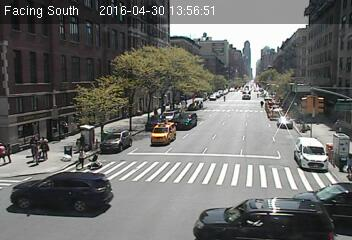neg: (214, 165, 237, 195), (157, 168, 176, 193), (140, 33, 157, 56), (258, 197, 274, 218), (94, 49, 110, 70), (179, 122, 193, 141), (240, 217, 254, 235), (273, 155, 286, 172), (119, 178, 131, 194), (184, 62, 196, 78), (151, 121, 162, 136), (226, 136, 237, 151), (246, 130, 257, 144), (175, 32, 186, 45), (257, 98, 267, 110), (220, 92, 229, 105), (80, 176, 88, 187), (210, 27, 218, 38), (240, 89, 247, 99)
pos: (22, 132, 47, 166), (69, 140, 91, 170), (1, 142, 17, 164), (74, 132, 86, 149)
